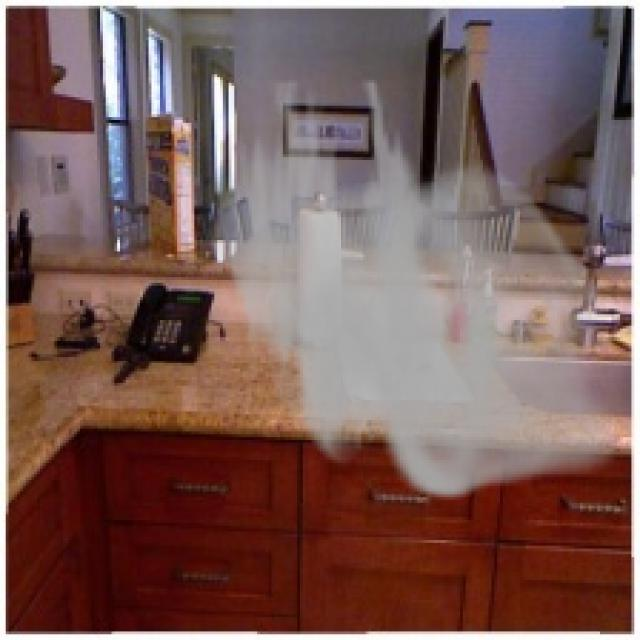smoke: (206, 77, 617, 500)
